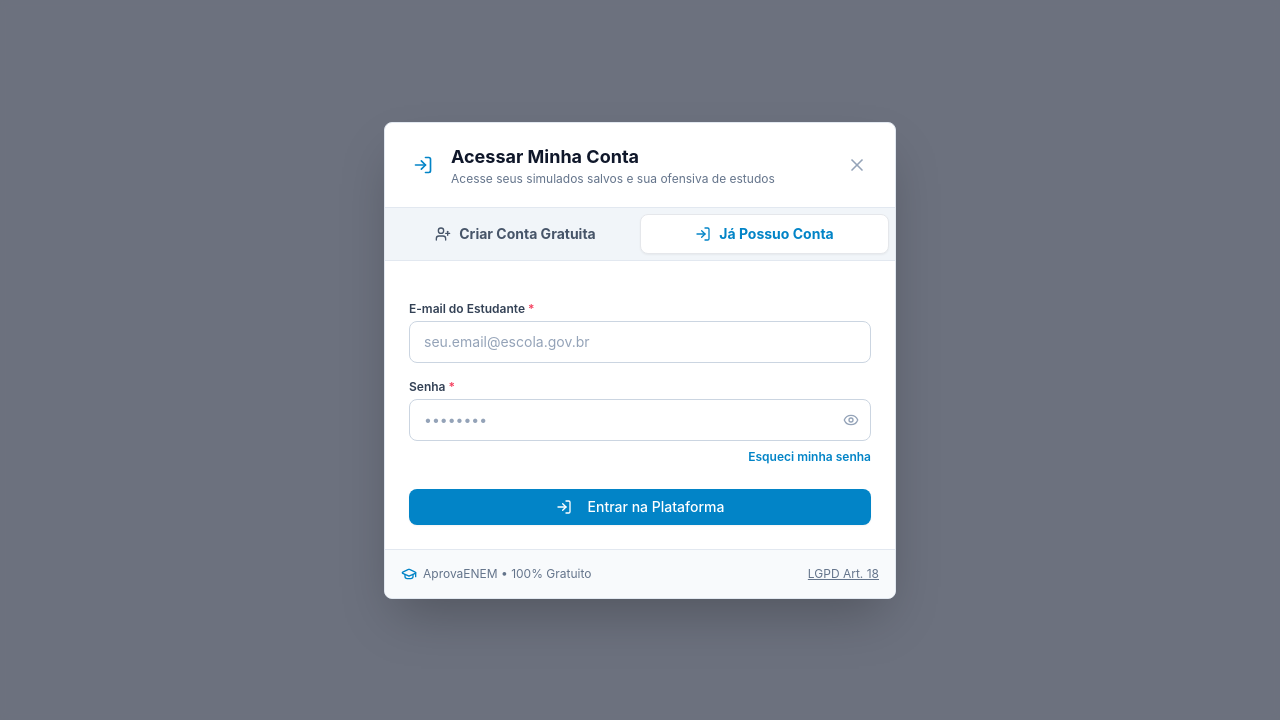
Test: RegisterModal Component › should switch to forgot password mode when clicking Esqueci minha senha in login mode
Step 1. Click the button "Esqueci minha senha" → (810, 456), box [748,448,871,464]
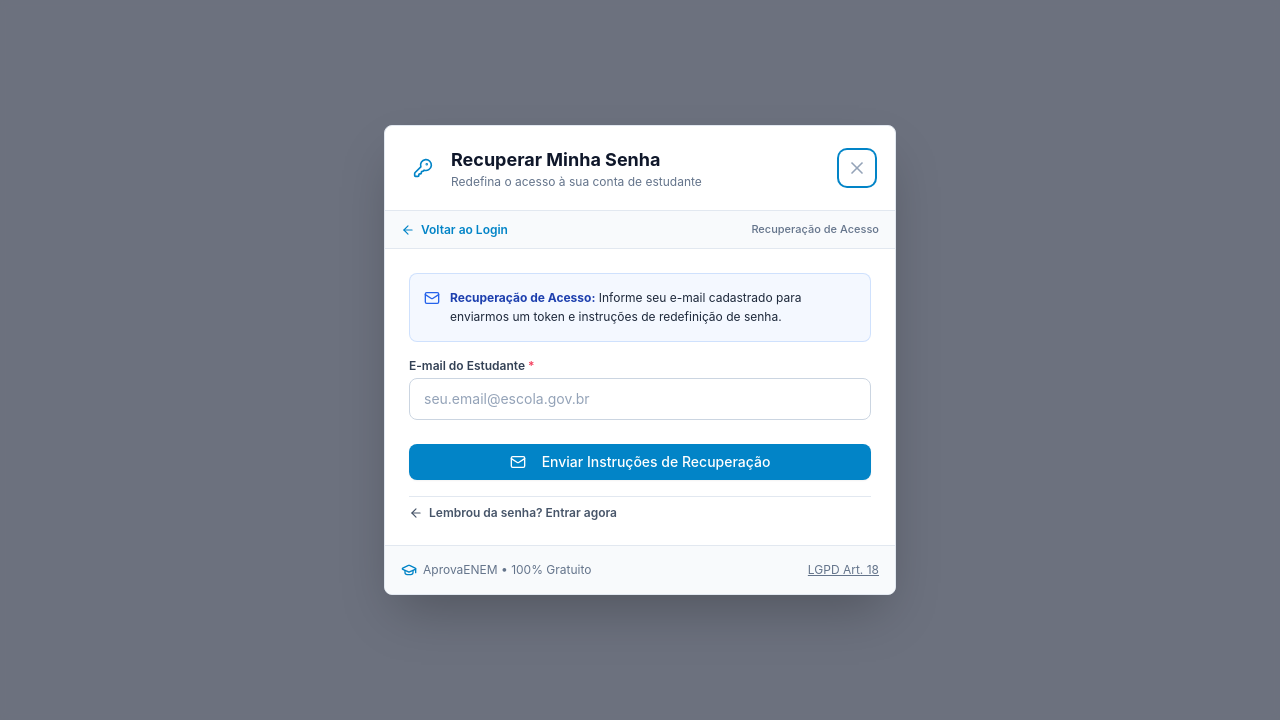
Result: the heading "Recuperar Minha Senha" is shown at [451,149,660,170]
Result: the button "Voltar ao Login" is shown at [401,222,508,238]
Result: the button "Enviar Instruções de Recuperação" is shown at [409,444,871,480]
